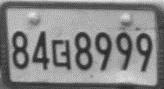4: (31, 30, 49, 70)
8: (74, 31, 93, 69), (11, 31, 29, 68)
9: (134, 32, 153, 72), (94, 31, 113, 69), (115, 31, 132, 69)
더: (51, 38, 71, 71)
